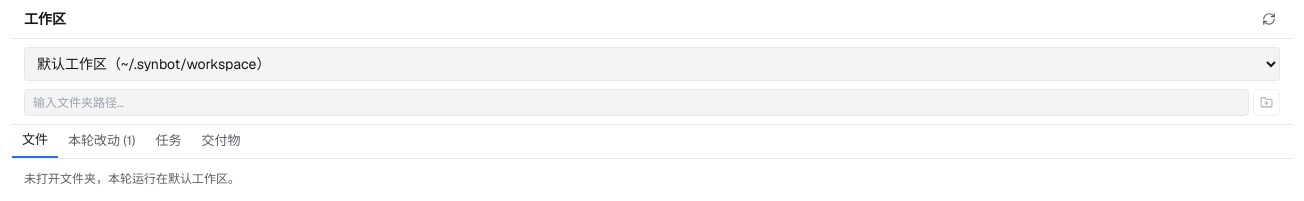
it: ProjectPanel checkpoint view › falls back to file_changed events when a turn has no checkpoint
This screenshot has width=1304, height=201.
Step 1. Click the button "本轮改动 (1)" → (102, 141), box x1=58 y1=125 x2=145 y2=158
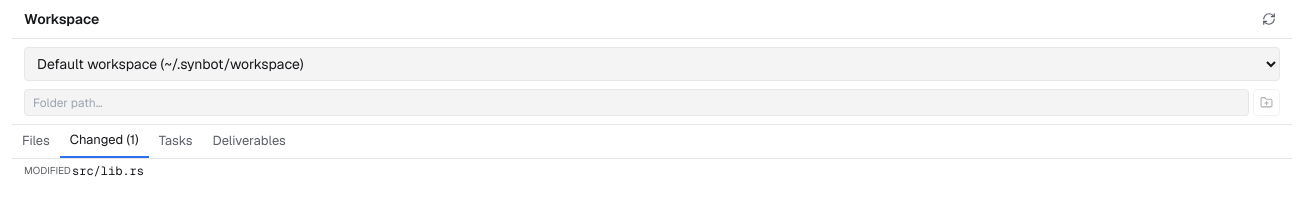
Check: the text "src/lib.rs" is shown, box x1=72 y1=163 x2=144 y2=179
